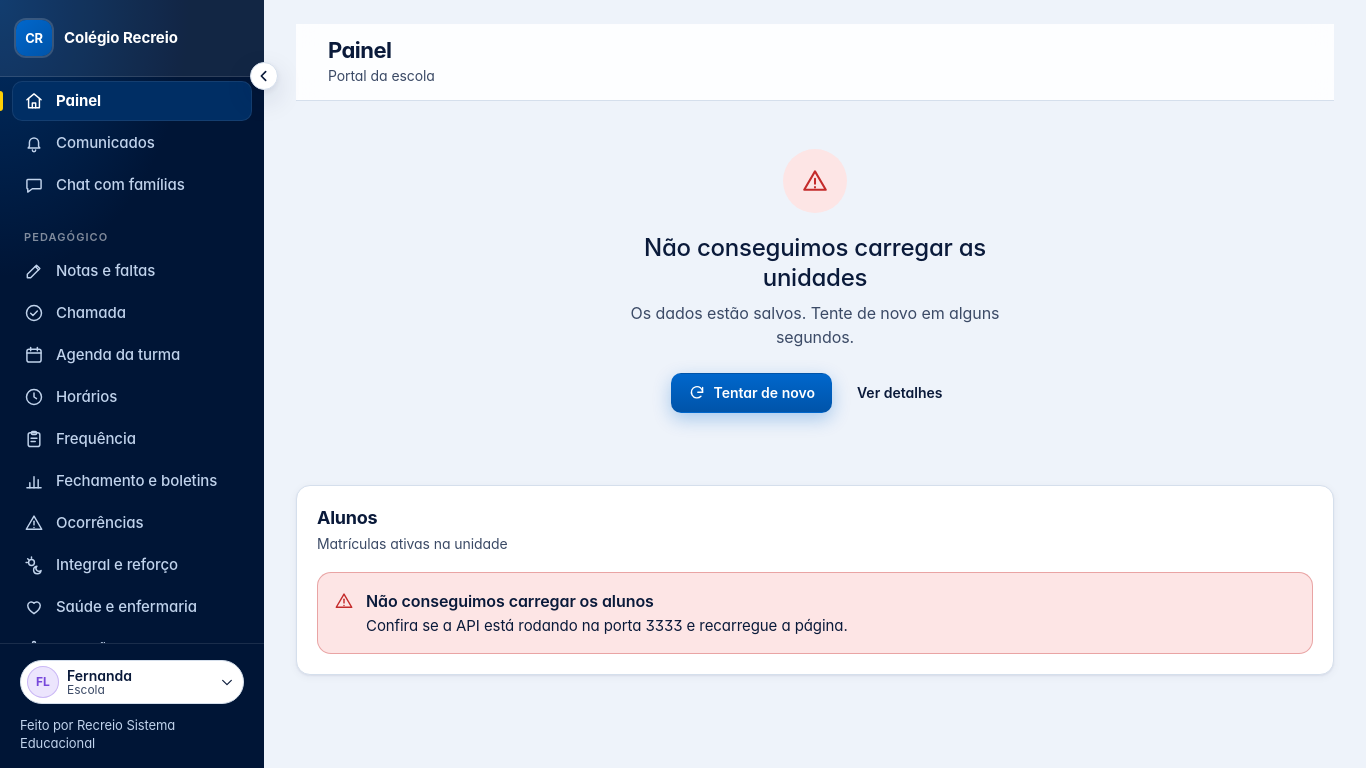
PerfilLayout › item do menu leva à rota dele e passa a ficar ativo
Click the link "Chamada": (75, 313) top-left (24, 303), bottom-right (126, 323)
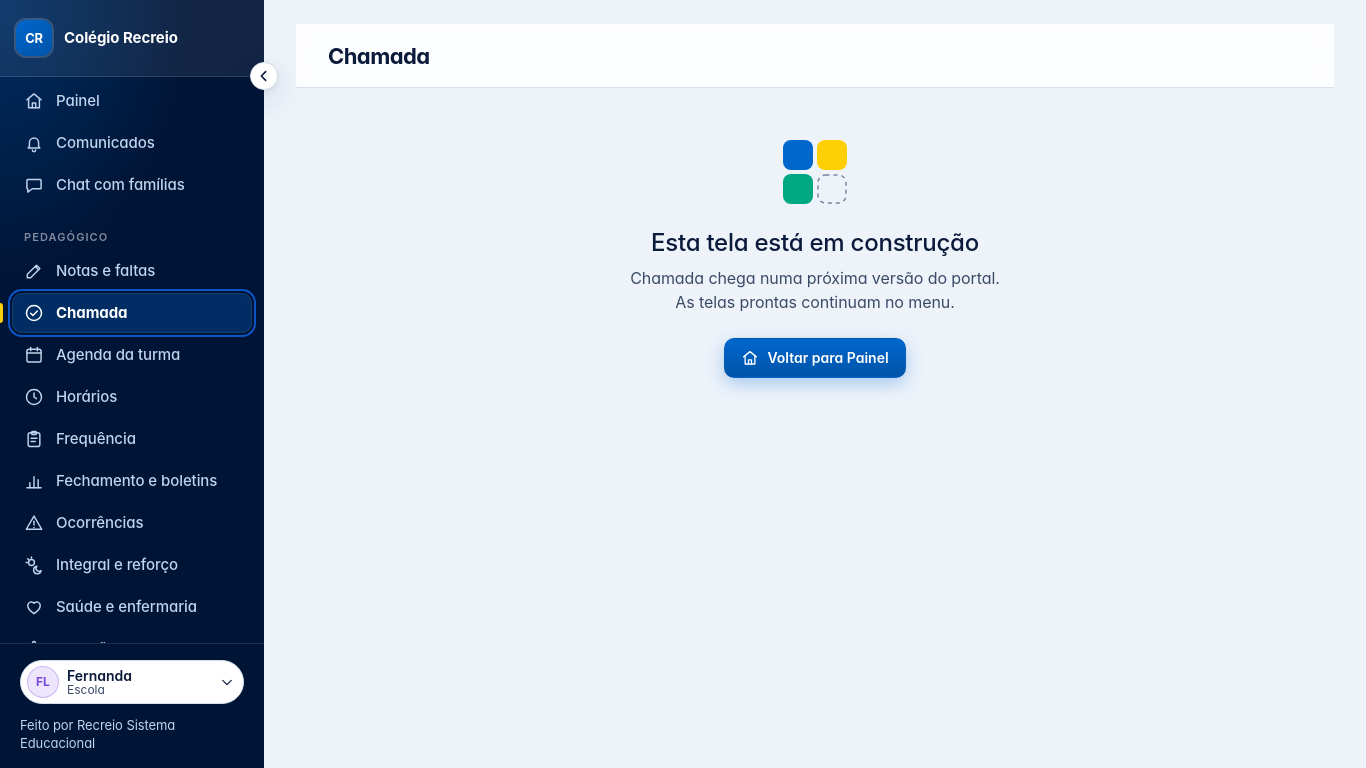
expect the heading "Chamada" is shown: met, box top-left (328, 42), bottom-right (430, 70)
